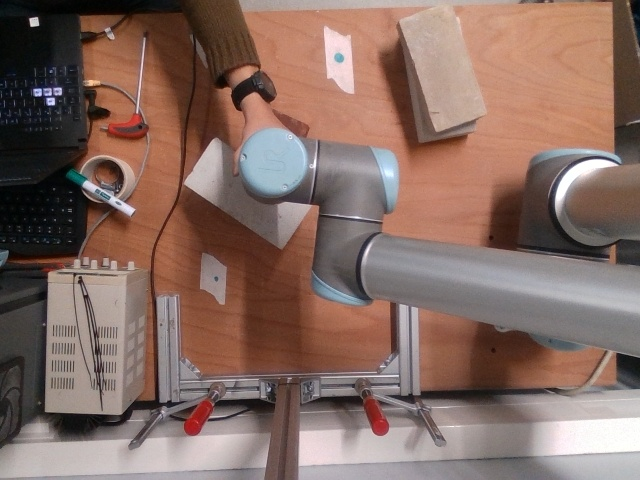brick: (399, 2, 487, 130)
